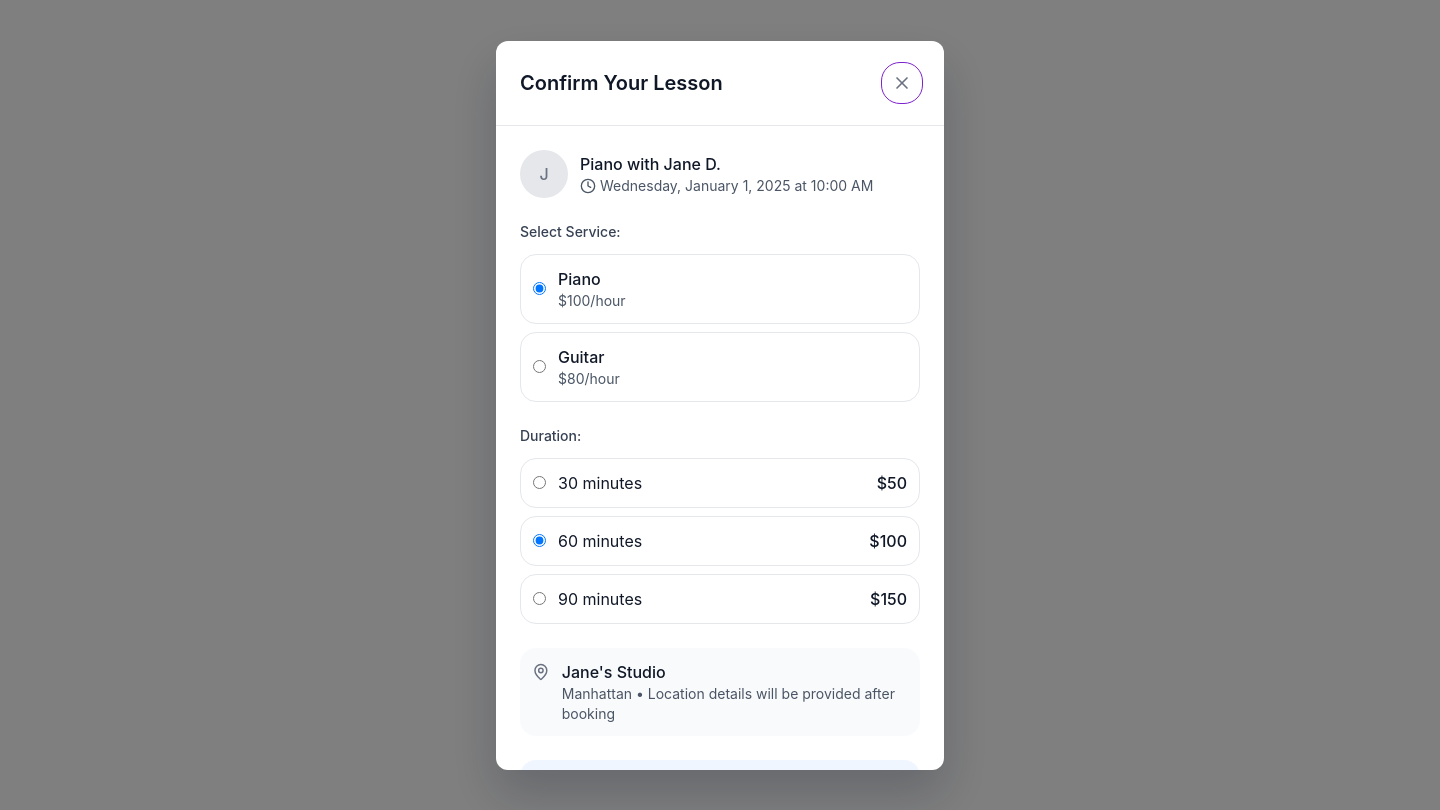
BookingModal › price calculation › calculates total price correctly after changing service
Click the radio button labelled "Guitar $80/hour". click: (540, 366)
box: [533,360,546,373]
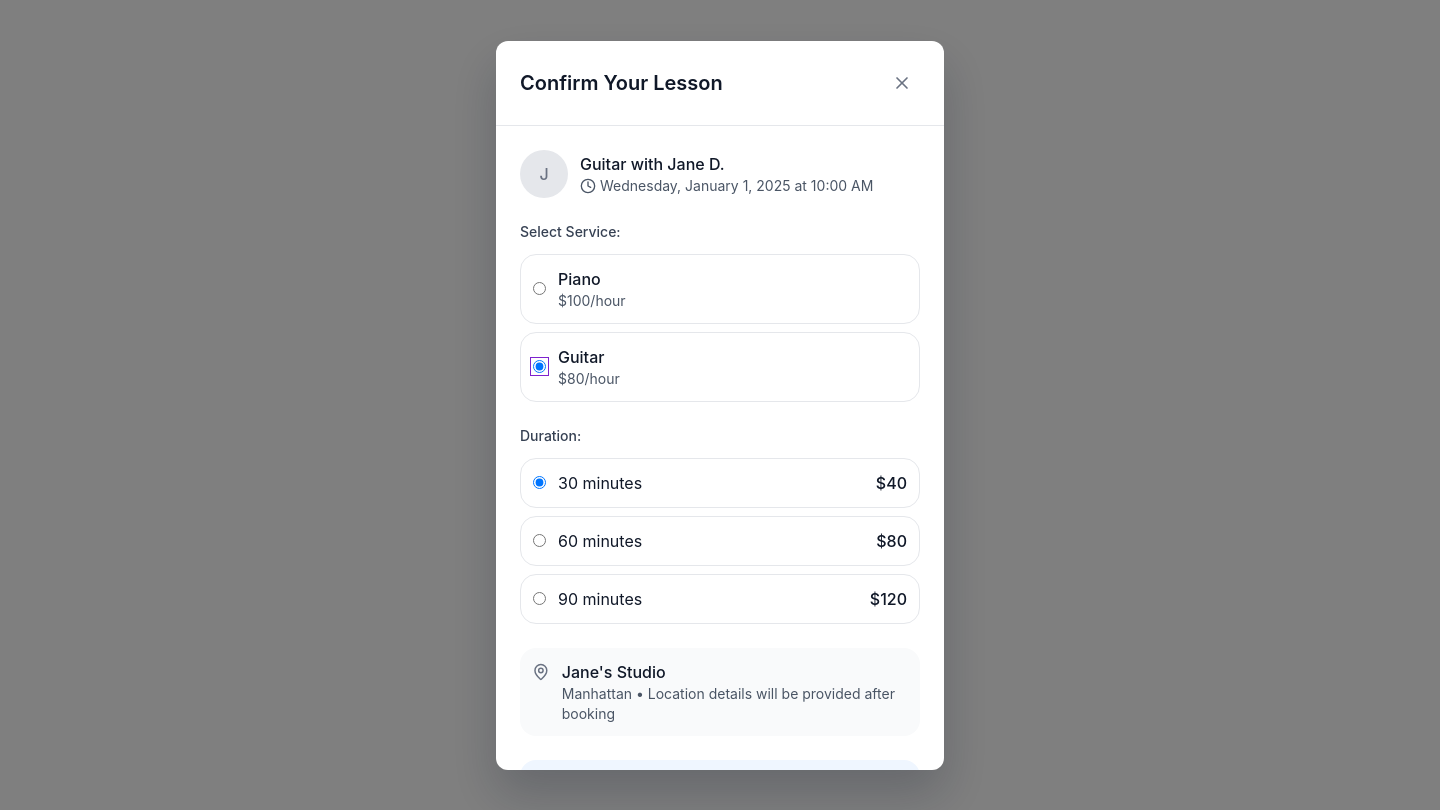
Result: the text "$40" is shown at [876,470,907,494]
